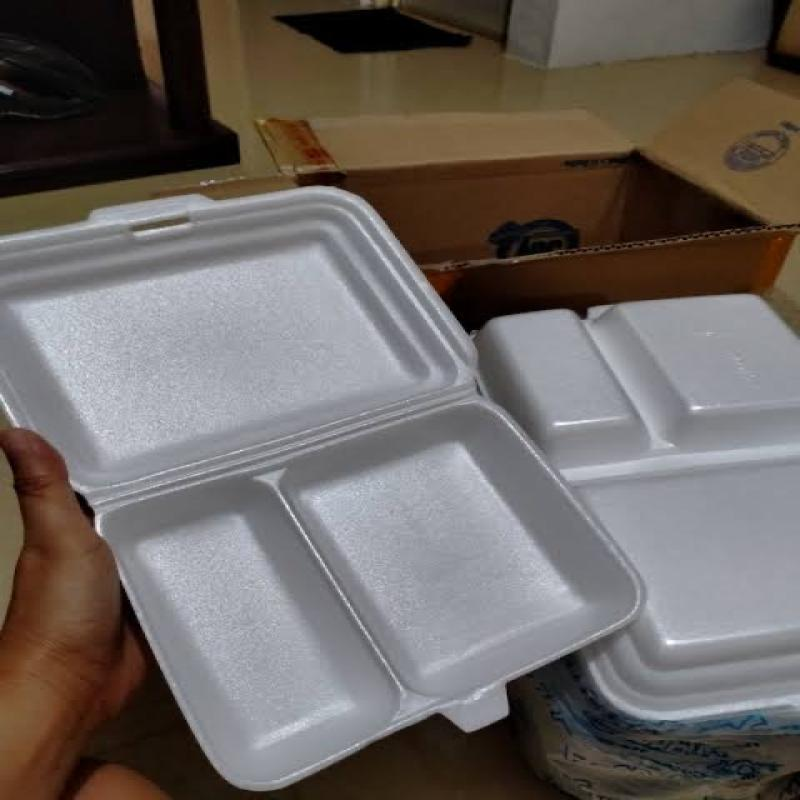styrofoam containers: (0, 185, 648, 798), (473, 295, 800, 726)
